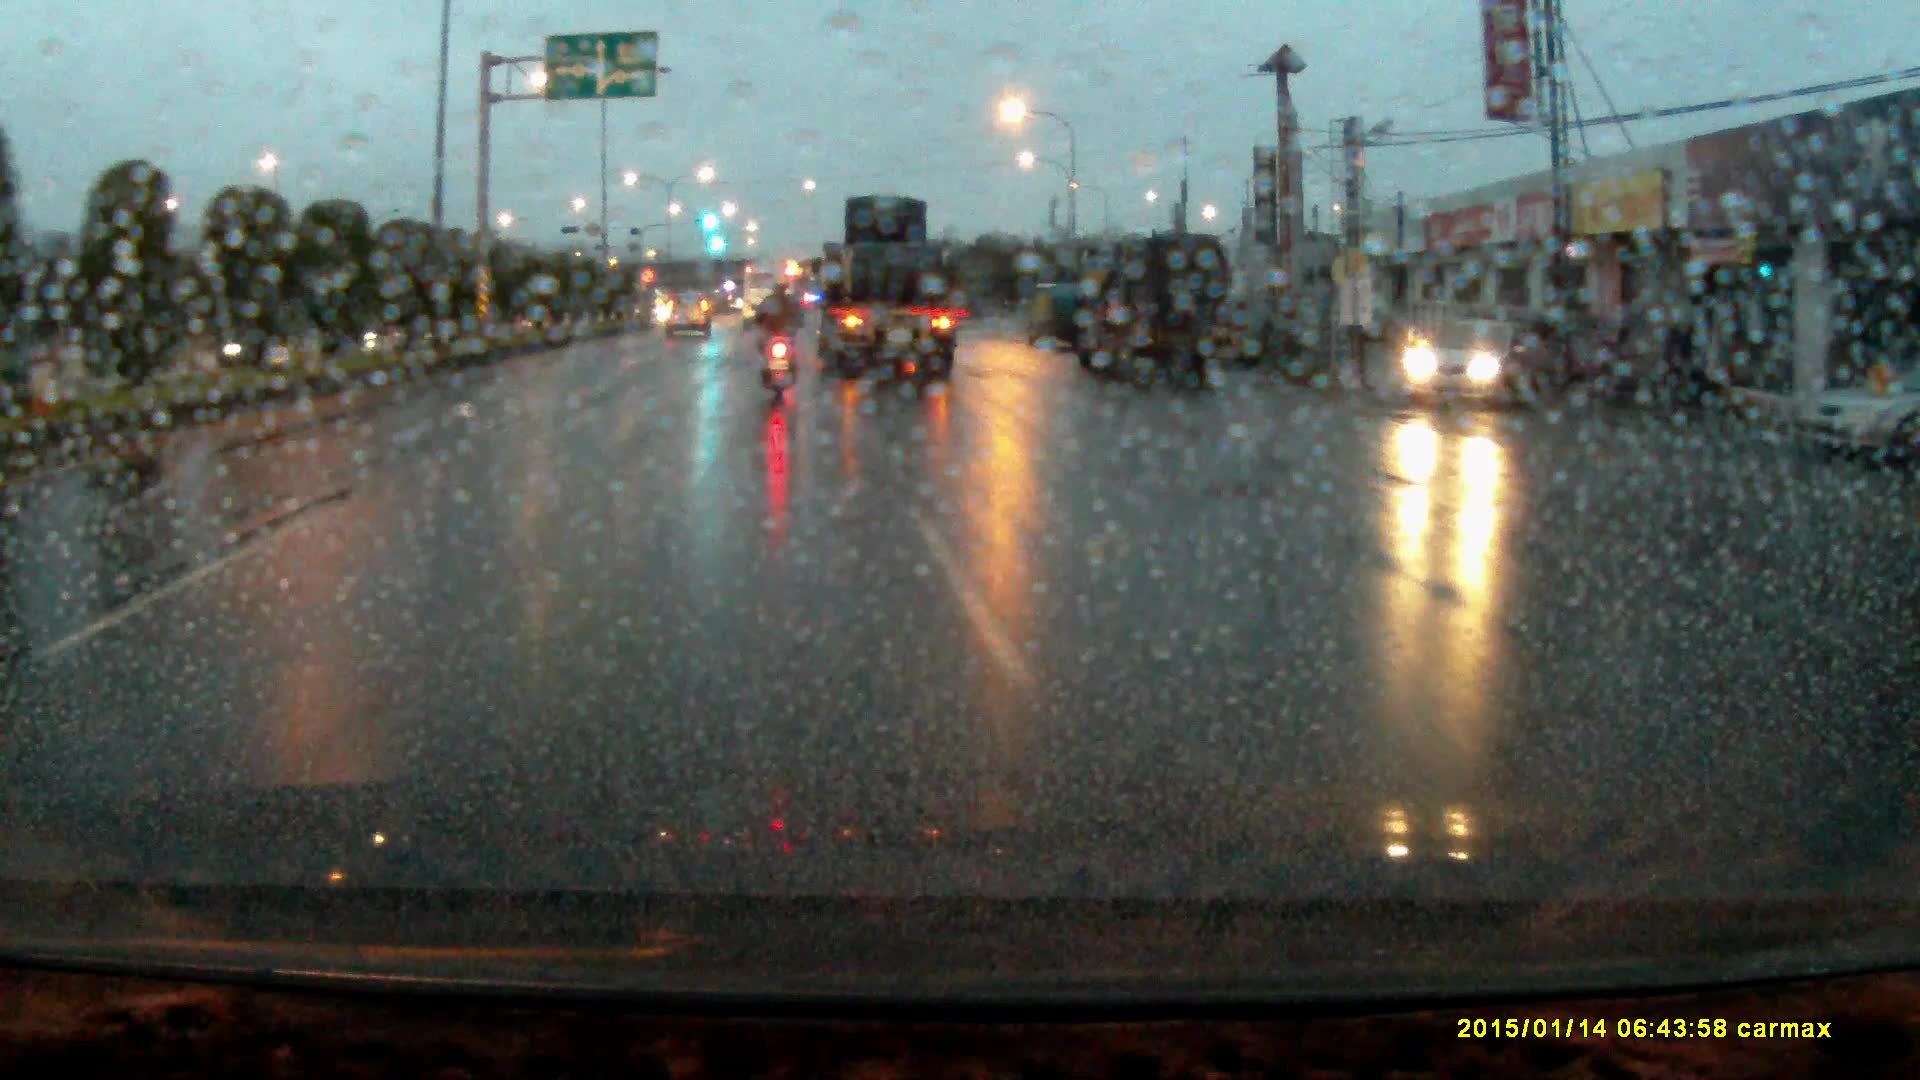rider: (755, 271, 813, 398)
vehicle: (820, 193, 958, 377), (1073, 225, 1228, 384), (1398, 312, 1555, 418), (1810, 357, 1920, 464), (1024, 283, 1087, 348), (742, 262, 797, 321), (666, 291, 715, 337)
